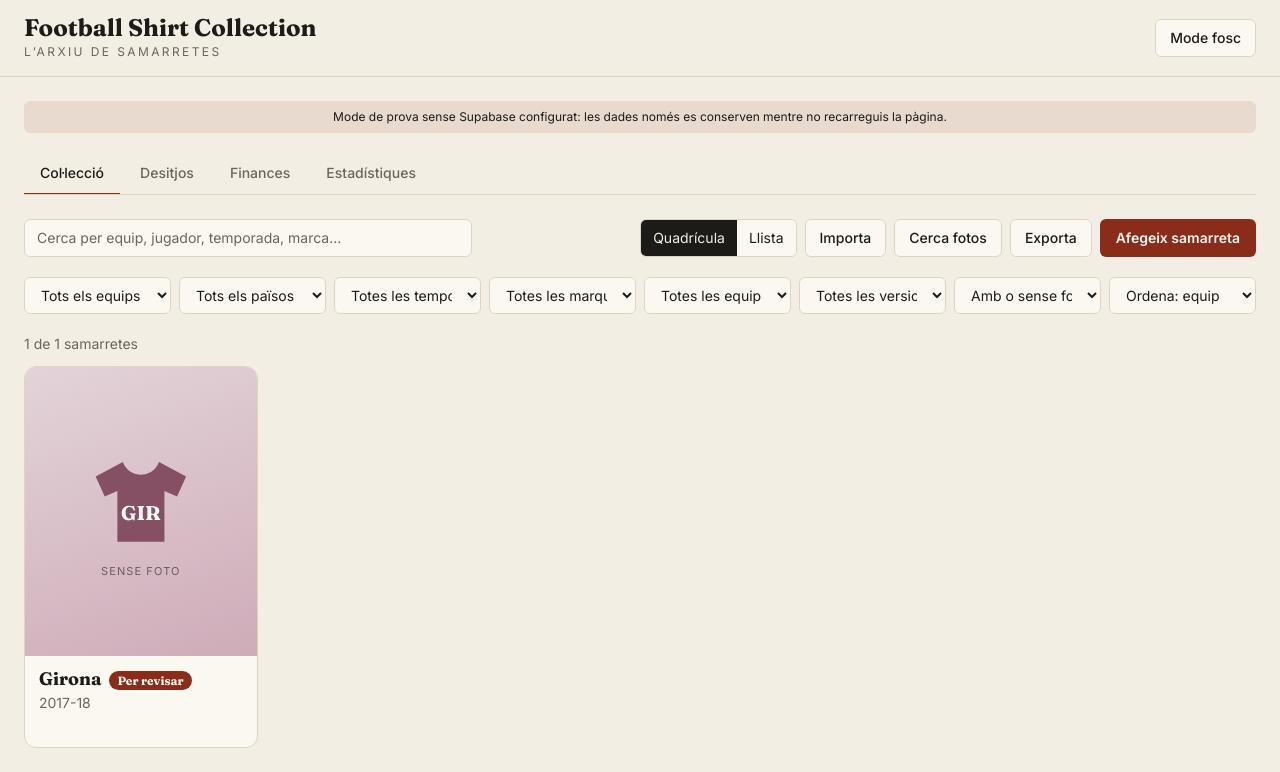
Scenario: Fotos › rebutja una candidata i no la torna a proposar
The width and height of the screenshot is (1280, 772).
Click the button "Girona" at (141, 557), box [24, 366, 258, 748]
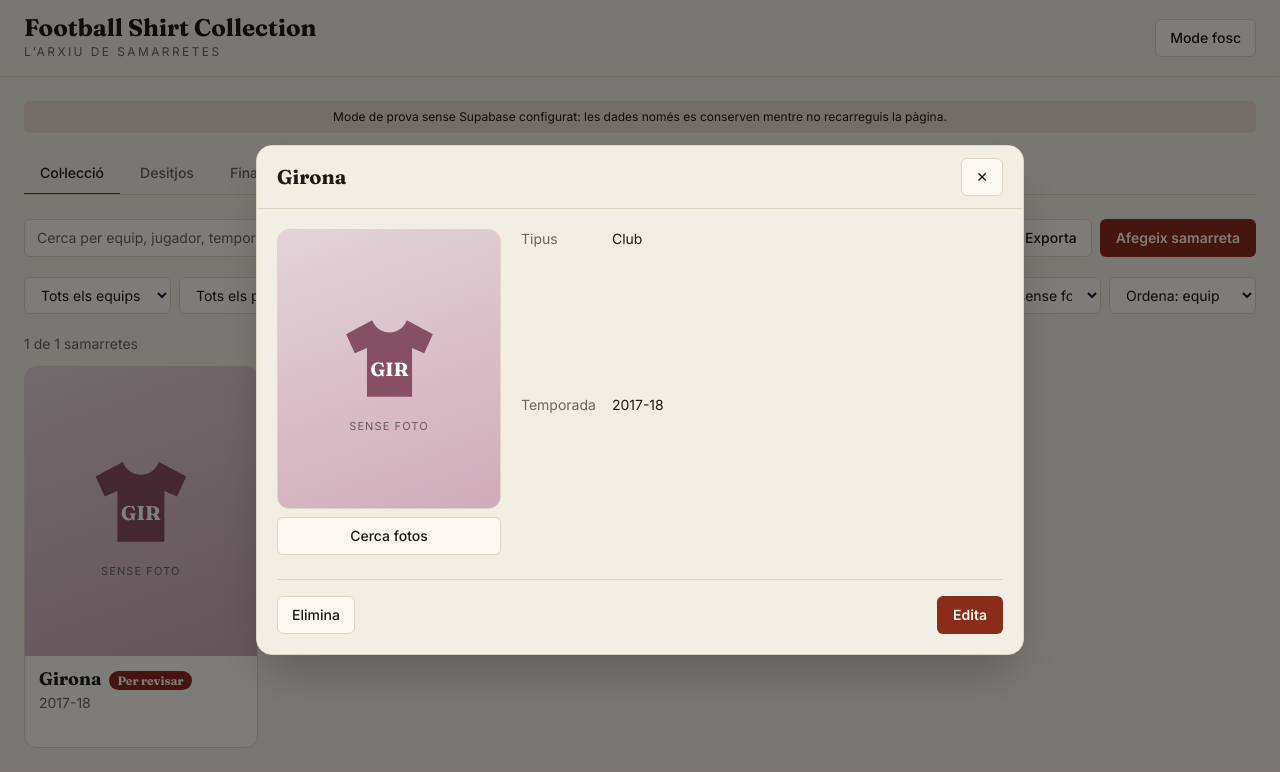
Click the button "Cerca fotos" at (389, 536), box [277, 517, 501, 555]
(page scrolled)
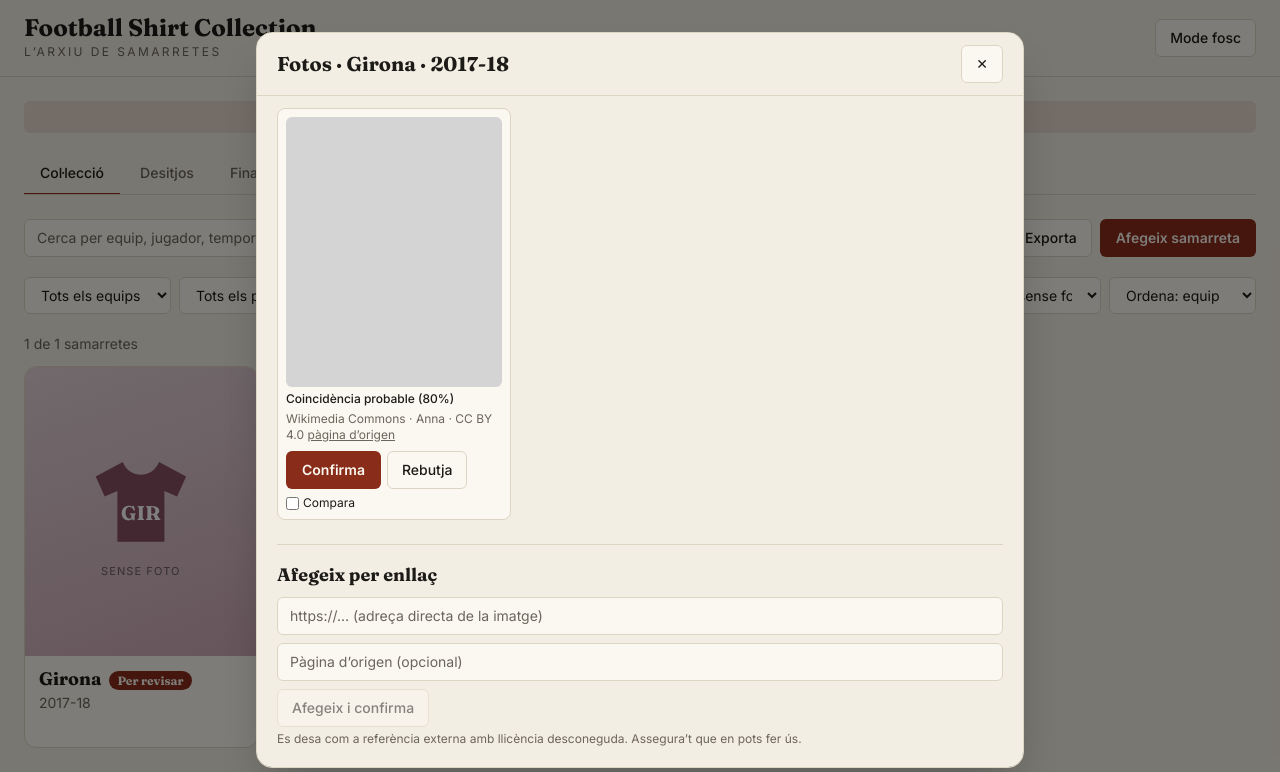
Click the button "Rebutja" at (427, 470), box [387, 451, 467, 489]
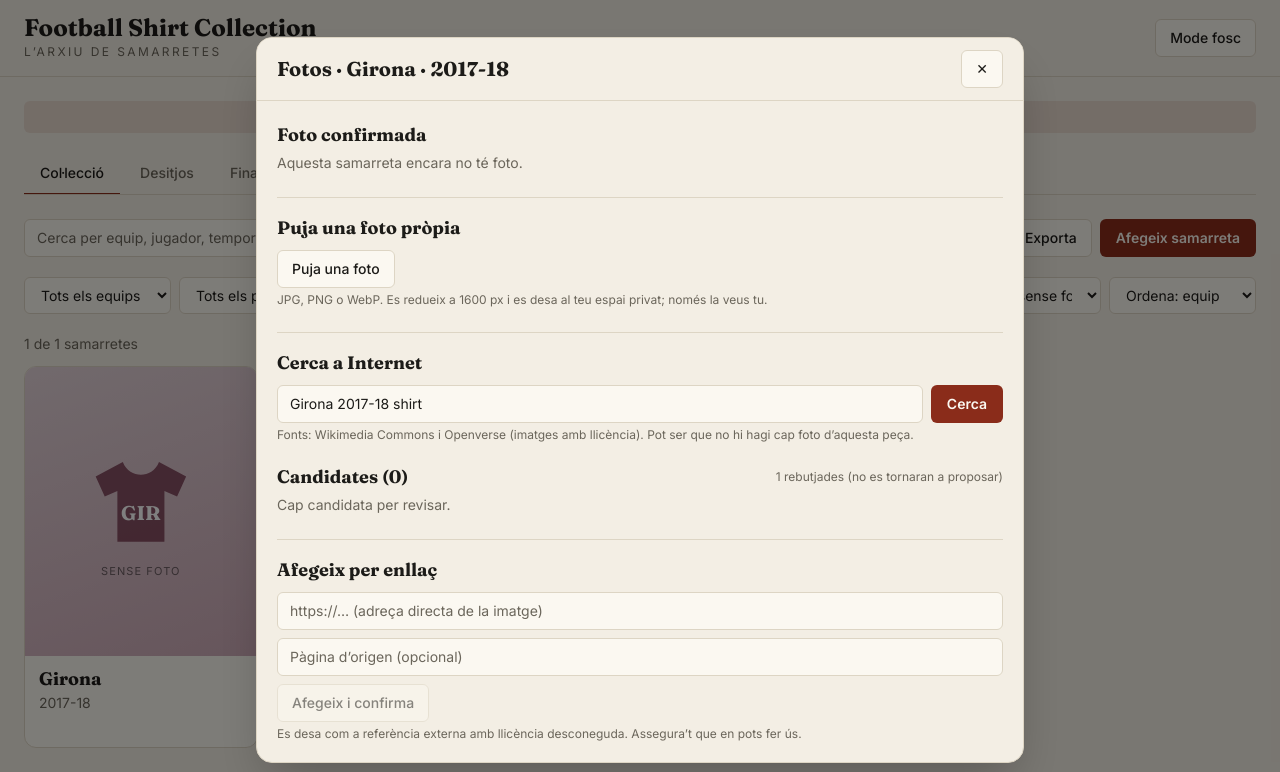
Check: the text "Cap candidata per revisar." is shown, box [277, 496, 450, 513]
